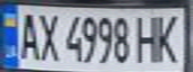4: (60, 11, 81, 63)
8: (112, 12, 133, 64)
9: (78, 11, 100, 64), (96, 12, 115, 64)
A: (15, 8, 42, 61)
H: (133, 11, 163, 64)
K: (151, 10, 184, 64)
X: (33, 9, 60, 62)
